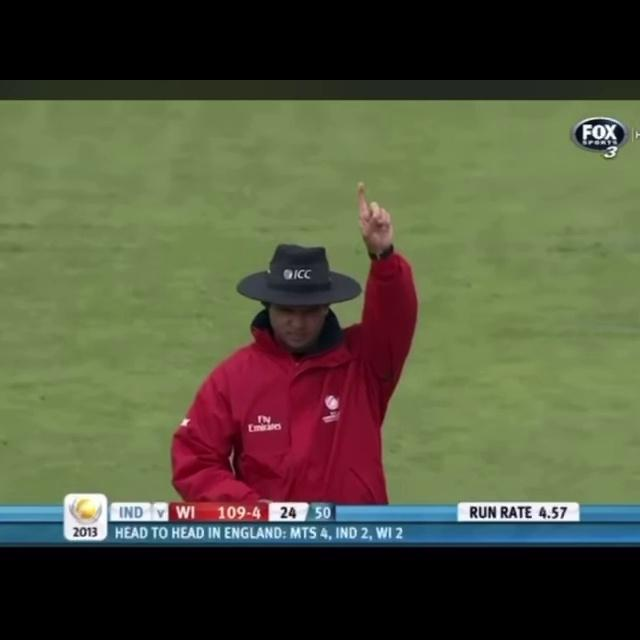umpire: (125, 130, 450, 502)
